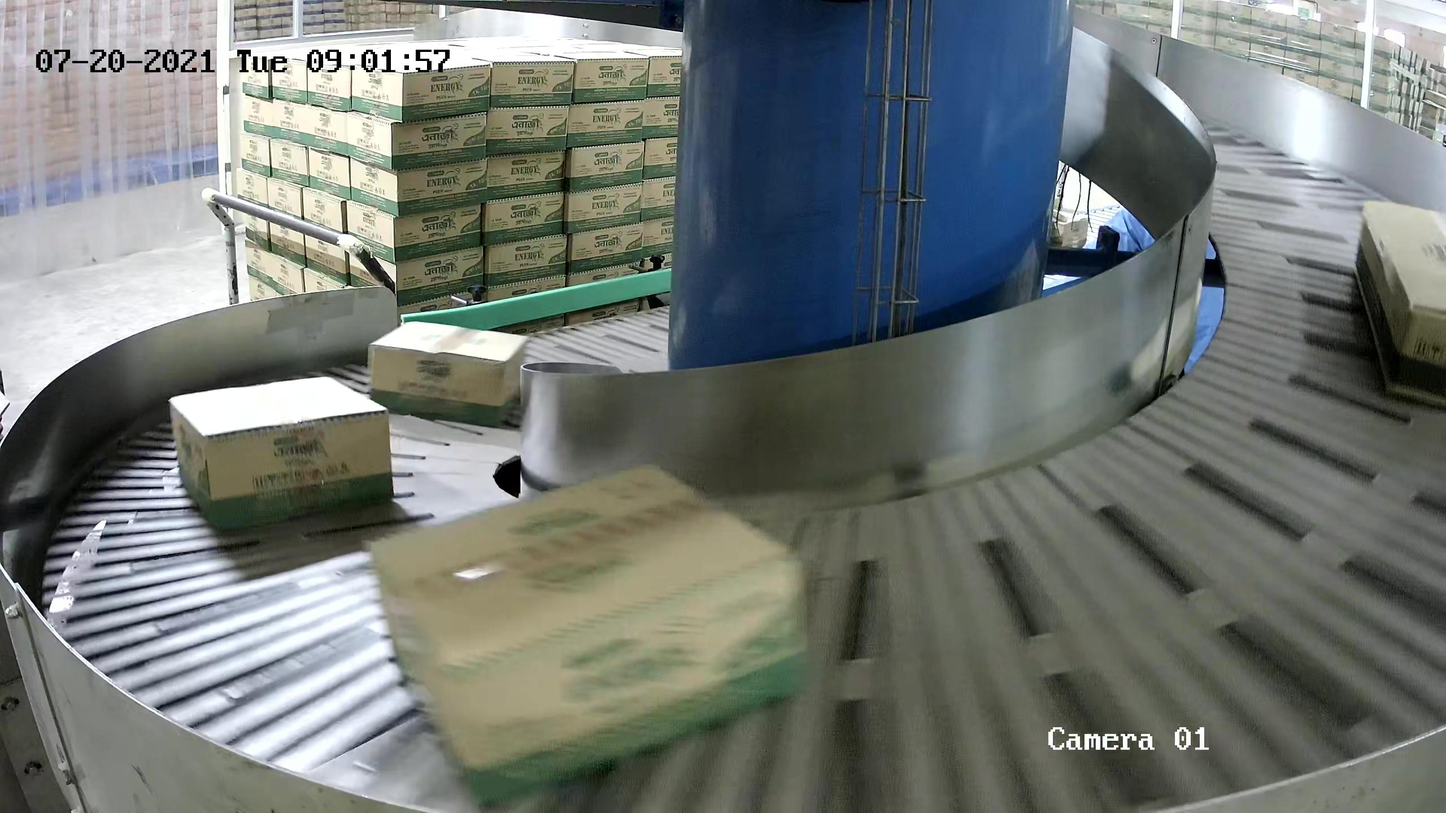Box: (367, 461, 813, 813), (169, 375, 396, 534), (1352, 198, 1446, 406), (367, 319, 530, 428)
